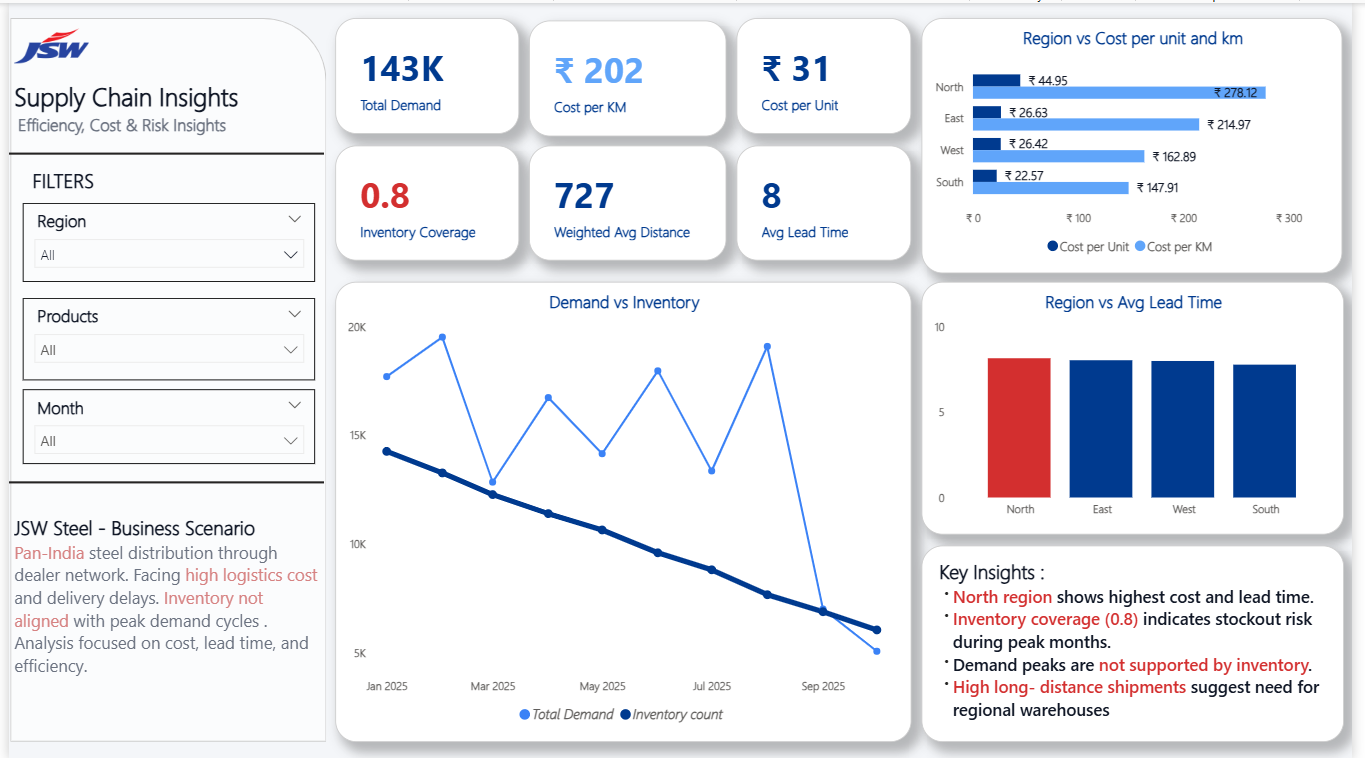

What the dashboard file says about the page in this screenshot:
{"tool":"powerbi","page":{"name":"Executive summary","canvas":[1280,720],"ordinal":0},"visuals":[{"type":"cardVisual","fields":{"Data":["historical_orders.Total Demand"]},"box":[310.7,14.3,175,110.7],"z":0},{"type":"cardVisual","fields":{"Data":["shipments.Cost per KM"]},"box":[495.2,16.7,188.1,110.7],"z":1000},{"type":"cardVisual","fields":{"Data":["shipments.Cost per Unit"]},"box":[692.9,14.3,166.7,110.7],"z":2000},{"type":"cardVisual","fields":{"Data":["inventory_snapshots.Inventory Coverage"]},"box":[310.7,135.7,175,109.5],"z":3000},{"type":"cardVisual","fields":{"Data":["shipments.Weighted Avg Distance"]},"box":[495.2,135.7,188.1,109.5],"z":4000},{"type":"cardVisual","fields":{"Data":["Query1.Avg Lead Time"]},"box":[692.9,135.7,166.7,109.5],"z":5000},{"type":"clusteredBarChart","title":"Region vs Cost per unit and km","fields":{"Category":["dealer_master.region"],"Y":["shipments.Cost per Unit","shipments.Cost per KM"]},"box":[869.1,14.3,401.2,242.9],"z":6000},{"type":"lineChart","title":"Demand vs Inventory","fields":{"Y":["historical_orders.Total Demand","inventory_snapshots.Inventory count"],"Category":["Date_Table.Month Start.Variation.Date Hierarchy.Year","Date_Table.Month Start.Variation.Date Hierarchy.Quarter","Date_Table.Month Start.Variation.Date Hierarchy.Month","Date_Table.Month Start.Variation.Date Hierarchy.Day"]},"box":[310.7,265.5,548.8,438.1],"z":7000},{"type":"columnChart","title":"Region vs Avg Lead Time","fields":{"Category":["dealer_master.region"],"Y":["Query1.Avg Lead Time"]},"box":[869.1,265.5,402.4,240.5],"z":8000},{"type":"shape","box":[1.2,14.3,301.2,689.3],"z":9000},{"type":"textbox","box":[0,67.9,301.2,83.3],"z":10000},{"type":"image","box":[0,14.3,81,53.6],"z":11000},{"type":"textbox","box":[869.1,516.7,402.4,186.9],"z":12000},{"type":"shape","box":[0,135.7,300,15.5],"z":13000},{"type":"slicer","fields":{"Values":["dealer_master.region"]},"box":[13.1,190.5,278.6,75],"z":14000},{"type":"slicer","fields":{"Values":["product_master.product_name"]},"box":[13.1,281,278.6,78.6],"z":15000},{"type":"slicer","fields":{"Values":["Date_Table.Month Start"]},"box":[13.1,367.9,278.6,71.4],"z":16000},{"type":"textbox","box":[13.1,151.2,278.6,34.5],"z":17000},{"type":"textbox","box":[0,464.3,301.2,239.3],"z":18000},{"type":"shape","box":[0,448.8,300,15.5],"z":19000}]}

Visuals, with their boxes in screenshot pixels (x1, y1, x2, y2), scaled from the page's 1280x720 canvas onto the 1365x758 screenshot:
cardVisual - historical_orders.Total Demand: 331,15,518,132
cardVisual - shipments.Cost per KM: 528,18,729,134
cardVisual - shipments.Cost per Unit: 739,15,917,132
cardVisual - inventory_snapshots.Inventory Coverage: 331,143,518,258
cardVisual - shipments.Weighted Avg Distance: 528,143,729,258
cardVisual - Query1.Avg Lead Time: 739,143,917,258
"Region vs Cost per unit and km" clusteredBarChart: 927,15,1355,271
"Demand vs Inventory" lineChart: 331,280,917,741
"Region vs Avg Lead Time" columnChart: 927,280,1356,533
shape: 1,15,322,741
textbox: 0,71,321,159
image: 0,15,86,71
textbox: 927,544,1356,741
shape: 0,143,320,159
slicer - dealer_master.region: 14,201,311,280
slicer - product_master.product_name: 14,296,311,379
slicer - Date_Table.Month Start: 14,387,311,462
textbox: 14,159,311,196
textbox: 0,489,321,741
shape: 0,472,320,489
